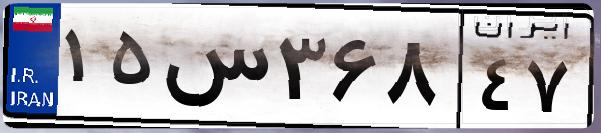1: (57, 26, 110, 100)
3: (270, 28, 330, 110)
4: (475, 38, 525, 113)
5: (110, 28, 158, 98)
6: (330, 28, 385, 110)
7: (525, 38, 570, 115)
8: (385, 28, 445, 110)
س: (158, 20, 270, 120)
